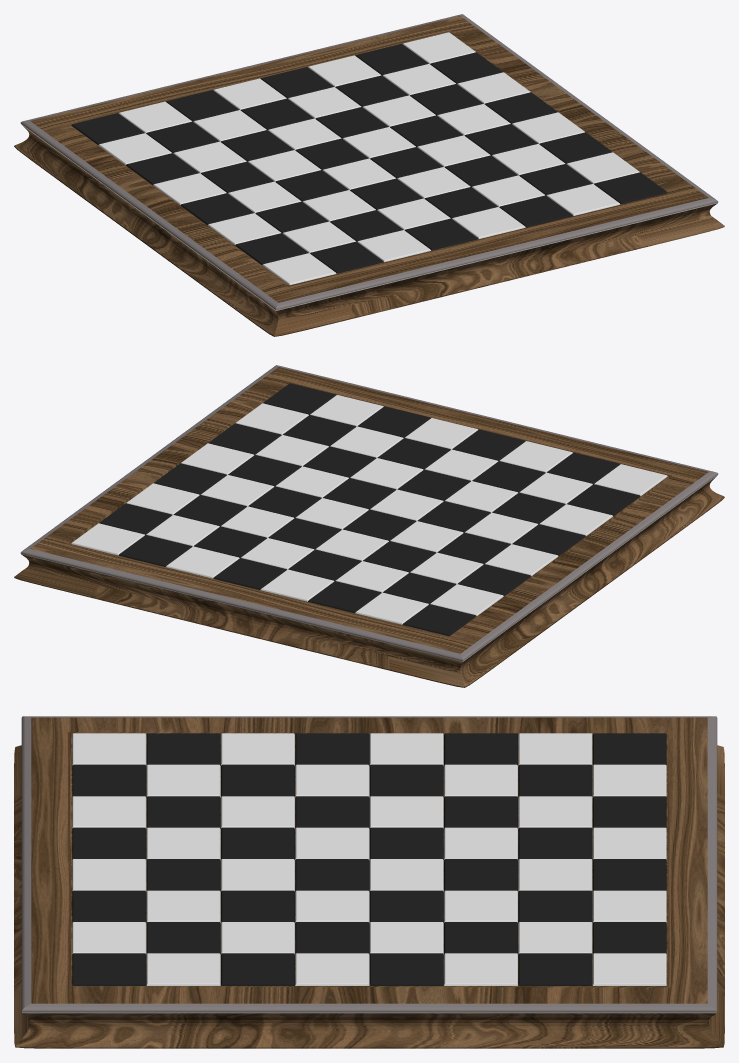
File: tahta_klasikset.glb
3 views of the same model, one above another, from view 1: azimuth 30°, elevation 25°; view 2: azimuth 150°, elevation 25°; view 3: azimuth 270°, elevation 25° (orthographic). The views are drawn at different scales.
Visible parts, largest first — view 1: Plane_2, Cube_3; view 2: Plane_2, Cube_3; view 3: Plane_2, Cube_3.
Part boxes in pixels (x1,y1,x2,y2): Plane_2: (71,32,667,285); Cube_3: (14,14,724,336); Plane_2: (71,383,667,636); Cube_3: (14,365,724,687); Plane_2: (72,733,666,985); Cube_3: (14,716,724,1048).
Size of the model in its own units: 9.98 by 0.6355 by 9.98.
Materials: 5 (1 with a texture image).
